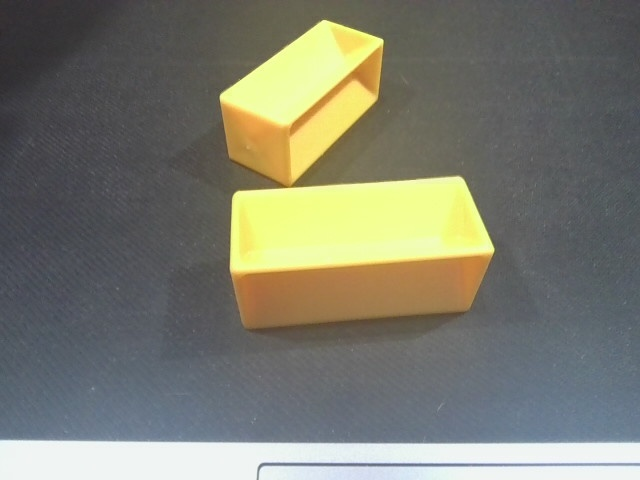YellowSample: (227, 172, 499, 334), (212, 17, 387, 185)
